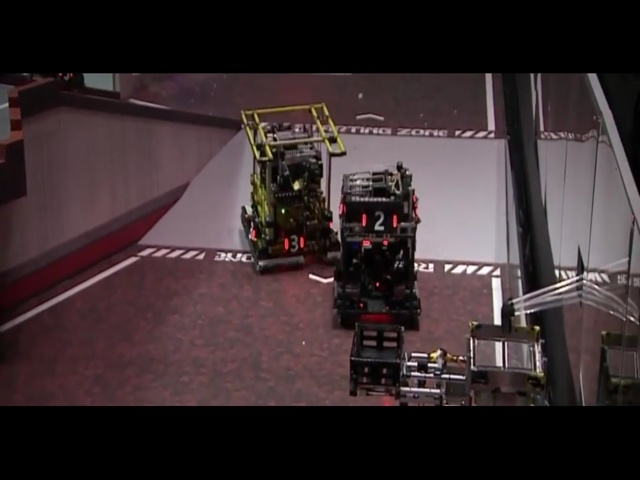bluePlate: (511, 328, 531, 350), (313, 178, 338, 195), (284, 173, 298, 193), (573, 329, 585, 351), (485, 159, 499, 173)
redPlate: (188, 352, 227, 383), (257, 348, 280, 373), (398, 193, 414, 211), (422, 191, 435, 208)
